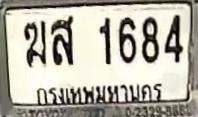1: (99, 16, 110, 64)
4: (164, 14, 182, 62)
6: (118, 16, 136, 63)
8: (141, 16, 158, 62)
A06: (23, 20, 46, 66)
A40: (50, 15, 74, 65)
BKK: (32, 79, 164, 106)
